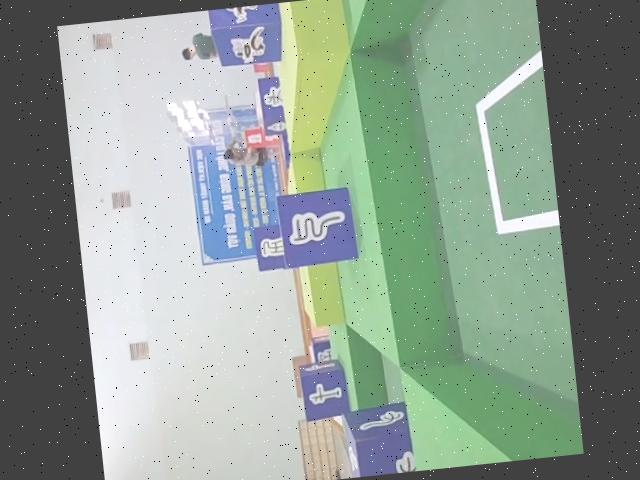R1 Blue: (205, 3, 285, 67)
R2 Fake Blue: (275, 187, 360, 270), (258, 79, 289, 139), (251, 226, 287, 274)
R2 Real Blue: (340, 404, 418, 479), (298, 361, 351, 424)
